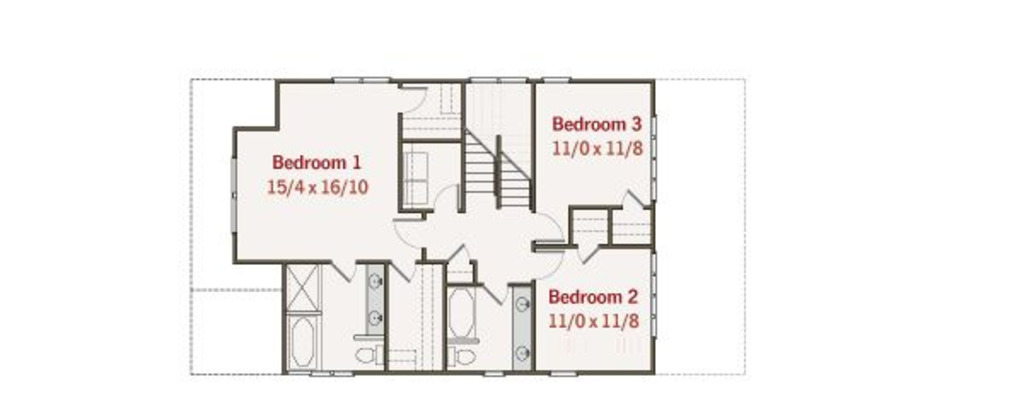door: (428, 178, 465, 217), (392, 85, 437, 116), (394, 217, 431, 254), (531, 246, 569, 282), (534, 204, 564, 247), (326, 251, 360, 286), (389, 259, 424, 291), (480, 275, 509, 312), (442, 241, 474, 273), (572, 246, 605, 270), (624, 187, 652, 212)
large_sink: (352, 340, 391, 372), (446, 343, 479, 374)
small_sink: (507, 278, 539, 380), (367, 265, 386, 337)
stairs: (456, 84, 539, 210)
tub: (436, 277, 475, 342), (285, 313, 322, 376)
window: (643, 113, 661, 205), (226, 157, 247, 234), (649, 250, 665, 340), (330, 73, 391, 85), (294, 368, 359, 378), (476, 367, 508, 384)
